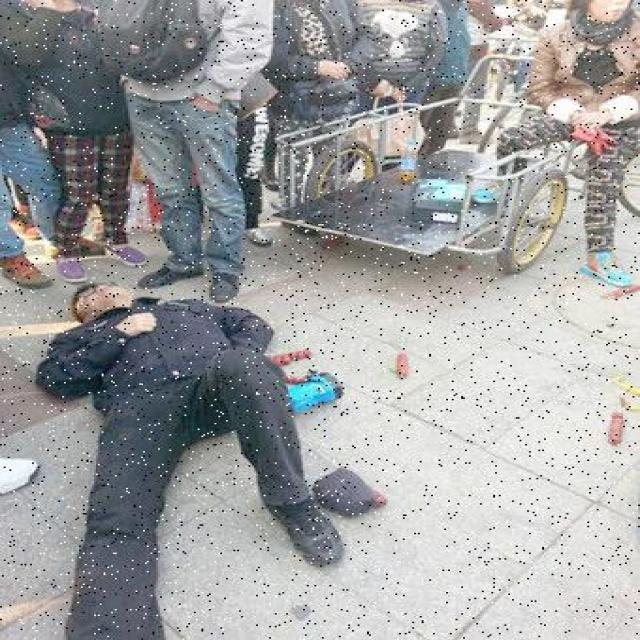fall: (52, 282, 324, 638)
